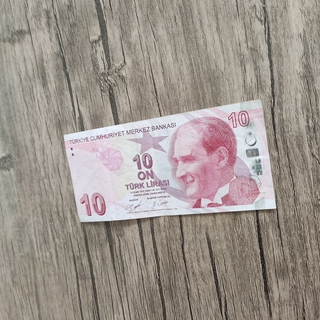10TLFront: (61, 98, 277, 223)
